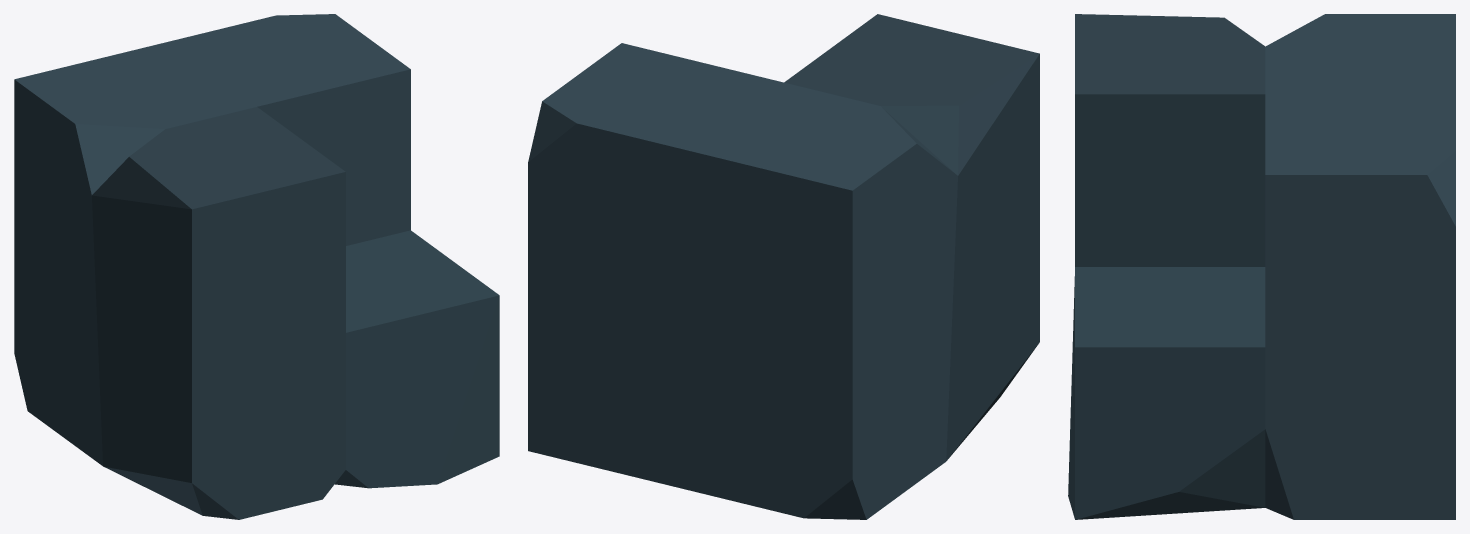
Rendered from stair_straight_narrow_half_corner_conc.fbx.
The picture shows the model from 3 angles, left to right: view 1: azimuth 30°, elevation 25°; view 2: azimuth 150°, elevation 25°; view 3: azimuth 270°, elevation 25°; orthographic projection. The views are drawn at different scales.
Visible parts, largest first — view 1: stair_straight_narrow_half_corner_conc; view 2: stair_straight_narrow_half_corner_conc; view 3: stair_straight_narrow_half_corner_conc.
Boxes of the visible parts, bbox=[...] form: stair_straight_narrow_half_corner_conc: bbox=[14, 14, 499, 519]; stair_straight_narrow_half_corner_conc: bbox=[528, 14, 1039, 519]; stair_straight_narrow_half_corner_conc: bbox=[1068, 14, 1455, 519].
Bounding box in the file's own units: 51.83 × 52.77 × 50.92.
